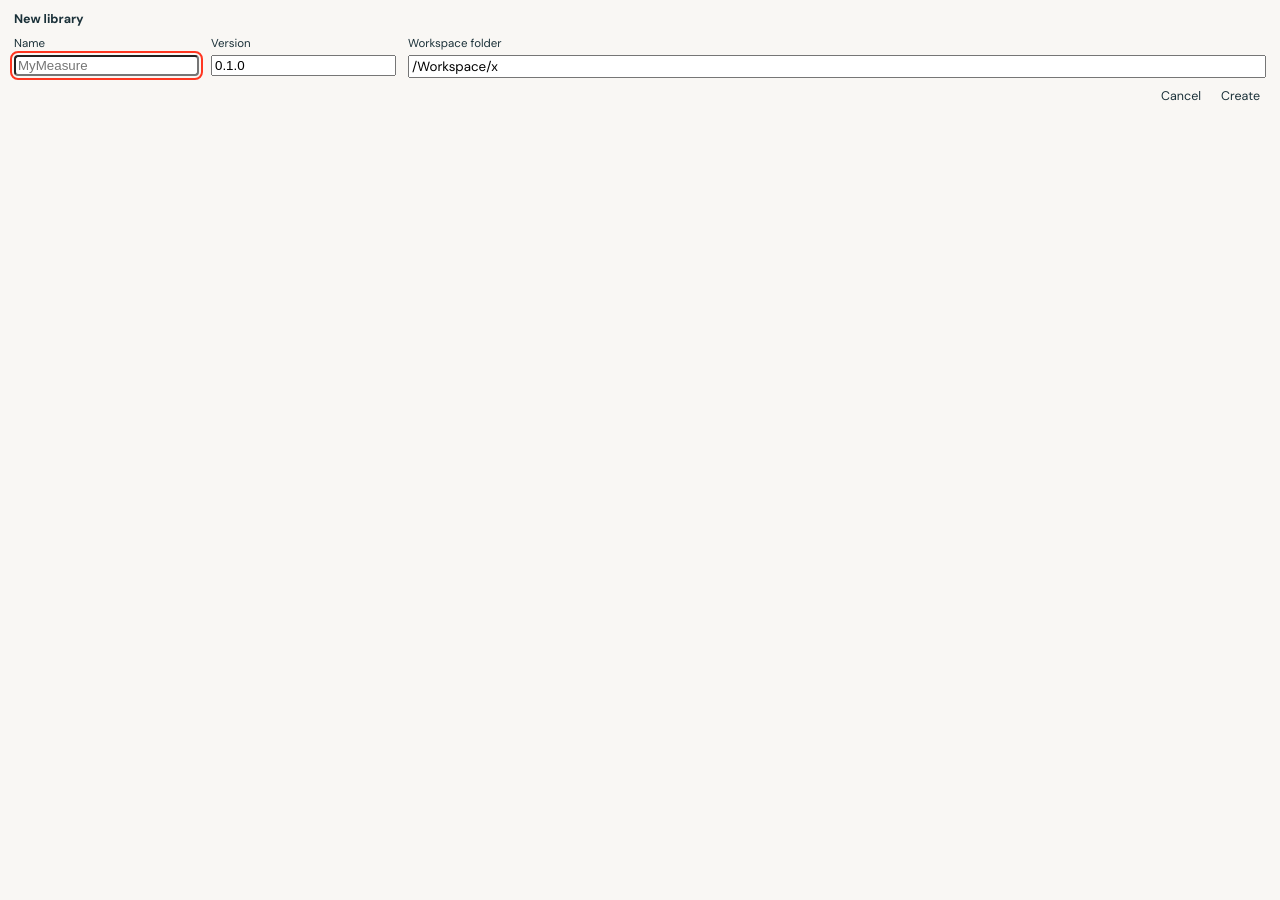
Scenario: NewLibraryForm › says why nothing was created
Type "Screening" into the field labelled "Name" at x=106, y=66, box x1=14 y1=55 x2=199 y2=76
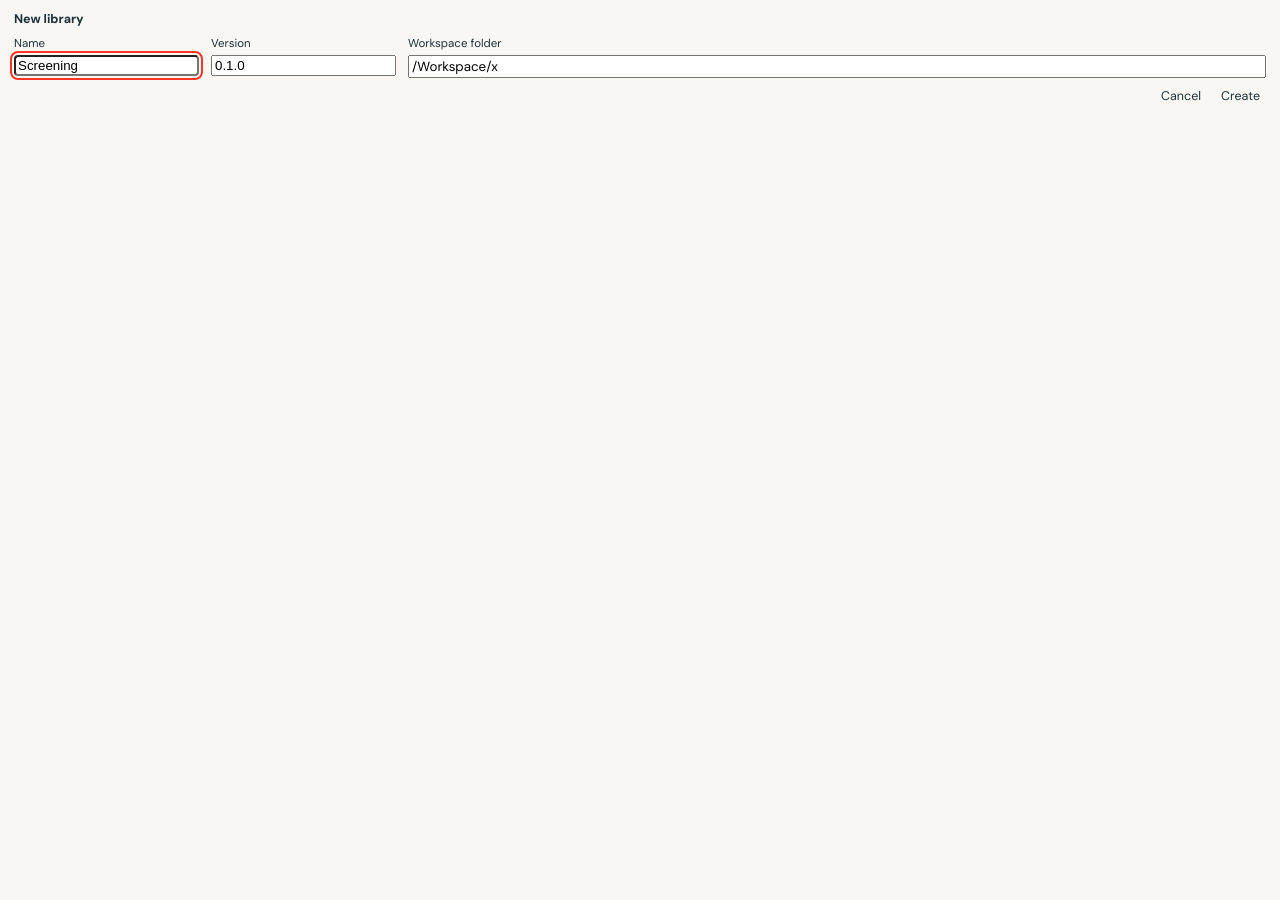
Click the button "Create" at x=1241, y=96, box x1=1215 y1=86 x2=1266 y2=107
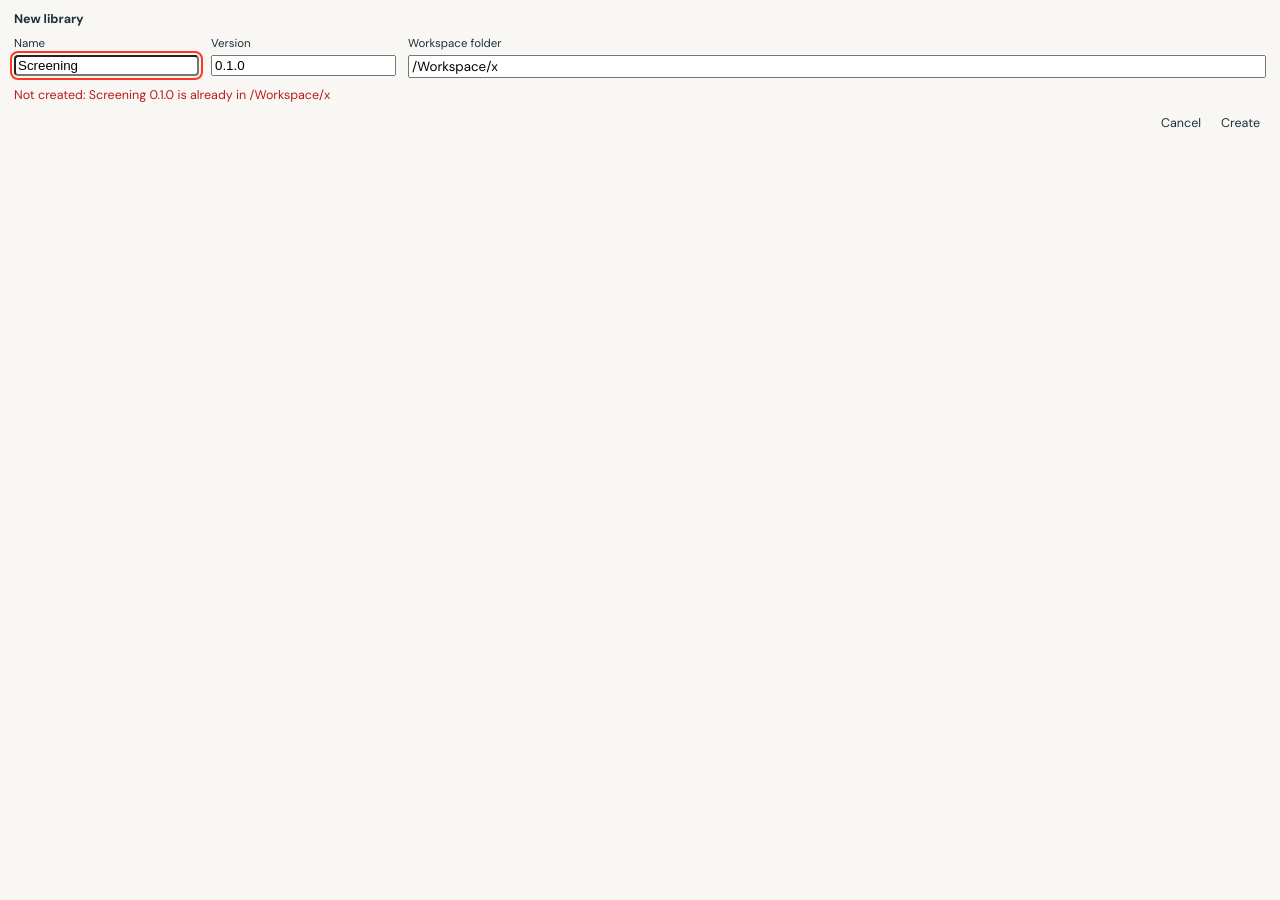
Expected: the message reads "Not created: Screening 0.1.0 is already in /Workspace/x", x1=14 y1=87 x2=330 y2=103
